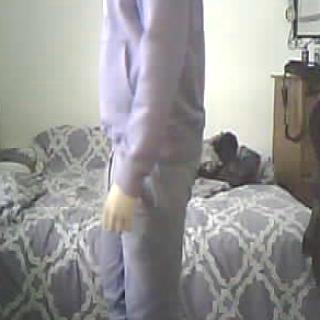Blue Hoodie: (98, 0, 206, 156)
Blue Sweatpants: (98, 148, 202, 320)
